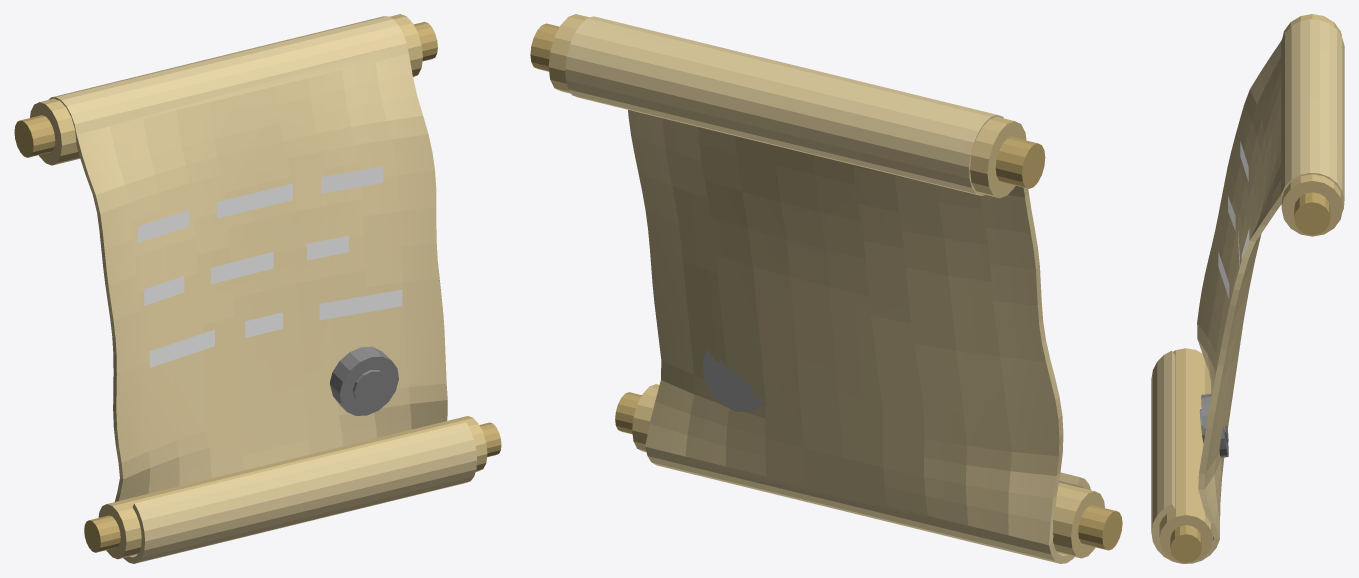
Rendered from Scroll_Master.glb.
3 views of the same model, side by side, from view 1: azimuth 30°, elevation 25°; view 2: azimuth 150°, elevation 25°; view 3: azimuth 270°, elevation 25° (orthographic). The views are drawn at different scales.
Parts seen in each view (by area): view 1: ScrollMaster; view 2: ScrollMaster; view 3: ScrollMaster.
Part boxes in pixels (<box>): ScrollMaster: <box>14,14,501,563</box>; ScrollMaster: <box>530,14,1122,563</box>; ScrollMaster: <box>1151,14,1344,563</box>.
Size of the model in its own units: 1.12 by 1.09 by 0.4894.
